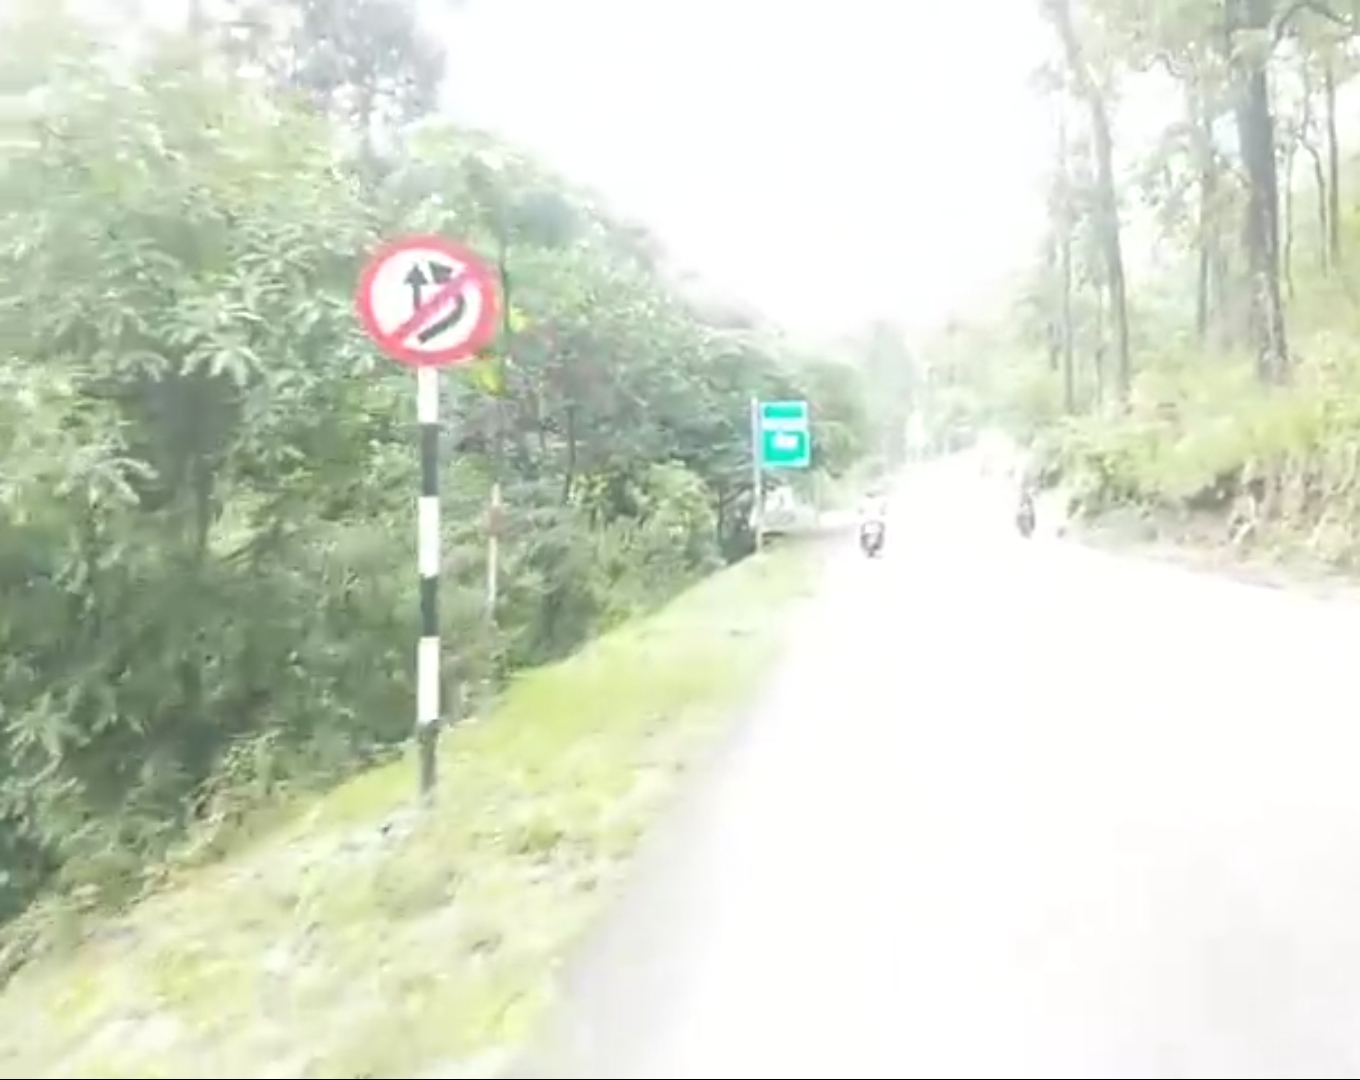traffic_sign: (358, 236, 502, 360)
